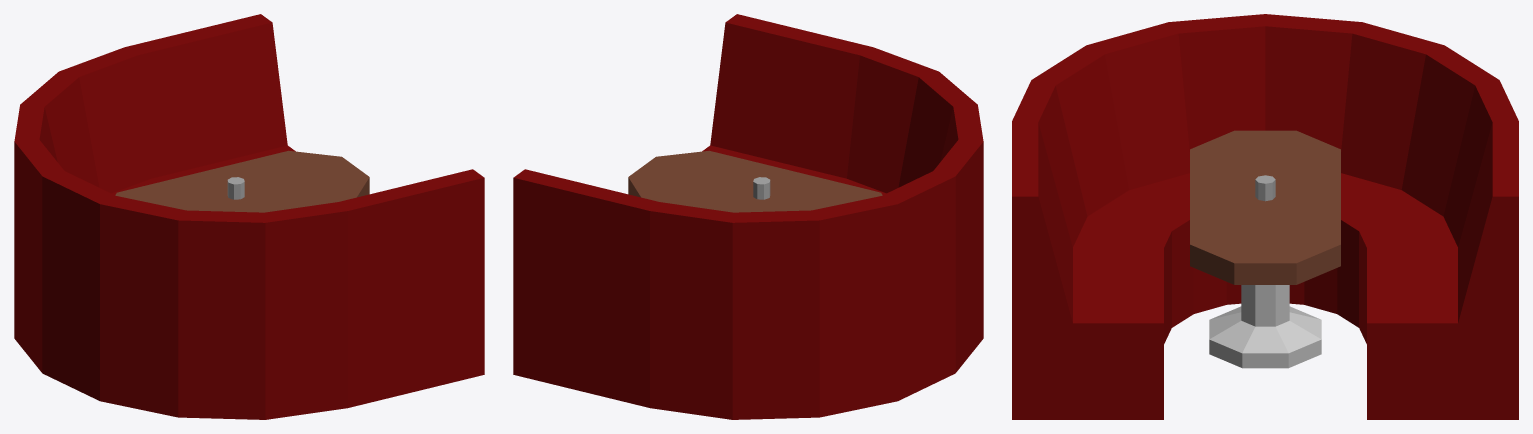
File: RoundSofas.fbx
The picture shows the model from 3 angles, left to right: view 1: azimuth 30°, elevation 25°; view 2: azimuth 150°, elevation 25°; view 3: azimuth 270°, elevation 25°; orthographic projection. The views are drawn at different scales.
Parts seen in each view (by area): view 1: CircleBench, Table; view 2: CircleBench, Table; view 3: CircleBench, Table, CupThing.
Boxes of the visible parts, bbox=[...] form: CircleBench: bbox=[14, 14, 484, 419]; Table: bbox=[115, 150, 369, 212]; CircleBench: bbox=[513, 14, 983, 419]; Table: bbox=[628, 150, 882, 212]; CircleBench: bbox=[1012, 14, 1518, 419]; Table: bbox=[1190, 130, 1340, 368]; CupThing: bbox=[1255, 175, 1275, 201].
Bounding box in the file's own units: 2.13 × 1.22 × 2.5.
